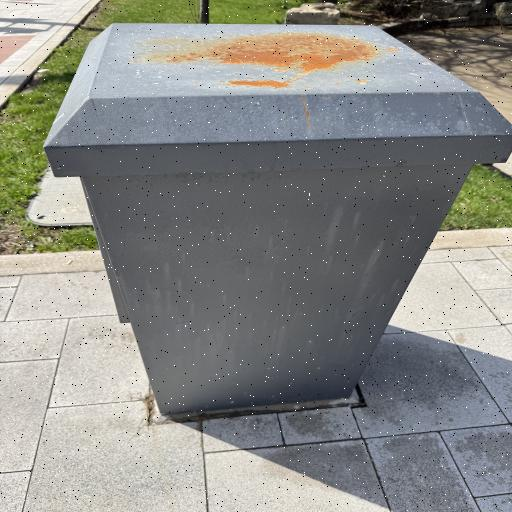Electrical Box: (37, 20, 512, 417)
